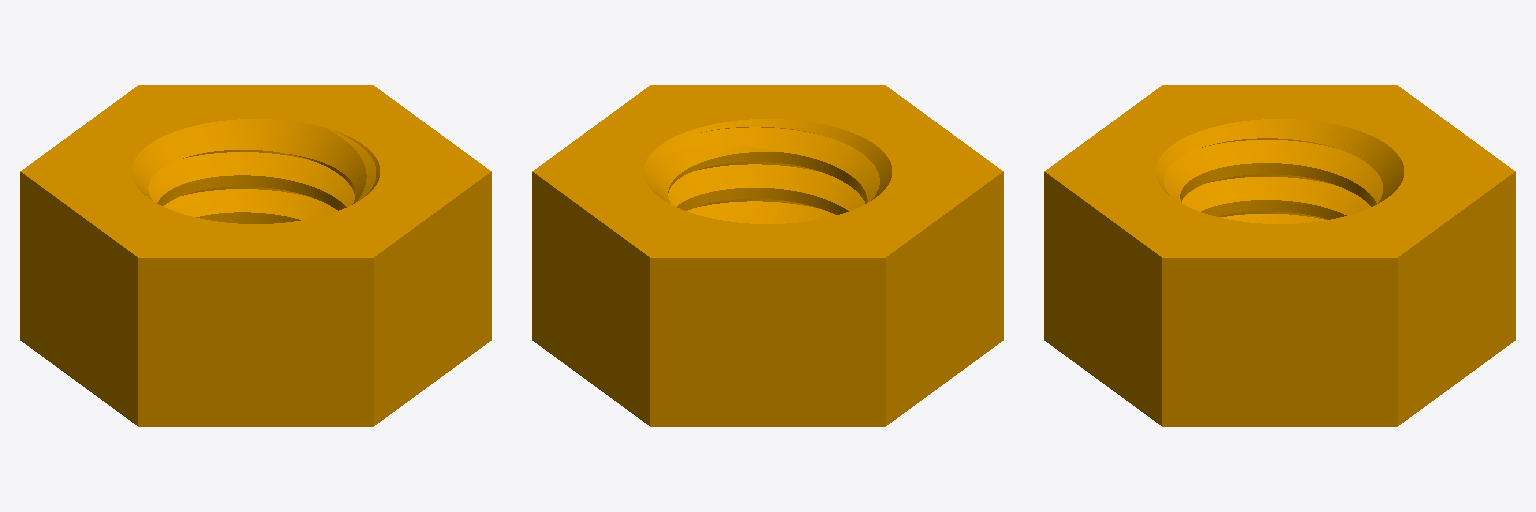
URDF robot description (nut_m4_loose_SI):
<?xml version="1.0"?>
<robot name="nut_m4_loose_SI">
  <link name="nut_m4_loose_SI">
    <visual>
      <origin xyz="0.0 0.0 0.0"/>
      <geometry>
        <mesh filename="nut_m4_loose.obj" scale="1 1 1"/>
      </geometry>
    </visual>
    <collision>
      <origin xyz="0.0 0.0 0.0"/>
      <geometry>
        <mesh filename="nut_m4_loose.obj" scale="1 1 1"/>
      </geometry>
      <sdf resolution="256"/>
    </collision>
    <inertial>
      <mass value="0.0008"/>
      <origin xyz="0 0 0.0" rpy="0 0 0"/>
      <inertia ixx="4.1e-9" ixy="0.0" ixz="0.0" iyy="4.1e-9" iyz="0.0" izz="6.86e-9"/>
    </inertial>
  </link>
</robot>

--- Render facts (derived) ---
Views: 3 orthographic renders of the robot side by side, from view 1: azimuth 30°, elevation 25°; view 2: azimuth 150°, elevation 25°; view 3: azimuth 270°, elevation 25°.
Model nut_m4_loose_SI with 1 links and 0 joints (none), rooted at nut_m4_loose_SI, posed all joints at 0.
Visible links, largest first — view 1: nut_m4_loose_SI; view 2: nut_m4_loose_SI; view 3: nut_m4_loose_SI.
Link boxes in pixels (x1,y1,x2,y2): nut_m4_loose_SI: (20, 85, 491, 426); nut_m4_loose_SI: (532, 85, 1003, 426); nut_m4_loose_SI: (1044, 85, 1515, 426).
Bounding box of the posed robot: 0.007 × 0.0081 × 0.0032 m (x, y, z).
1 mesh visuals loaded from 1 distinct referenced files (1 OBJ).